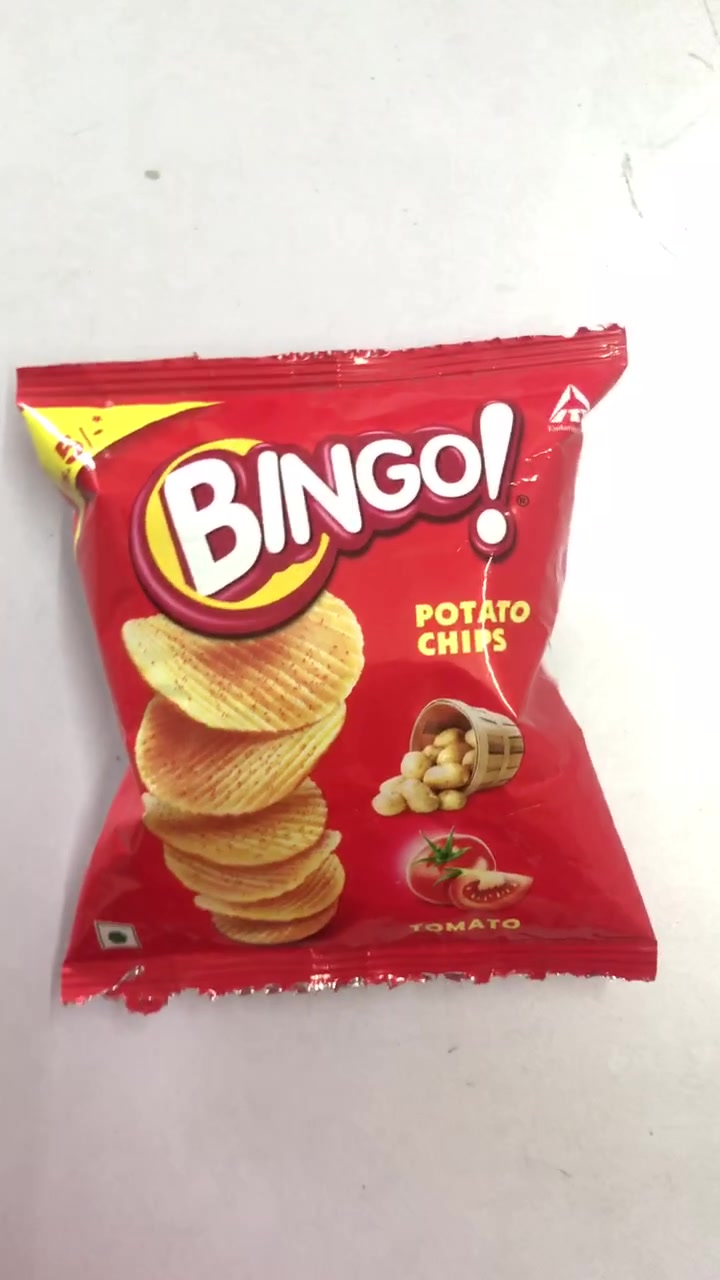Bingo: (16, 345, 662, 989)
